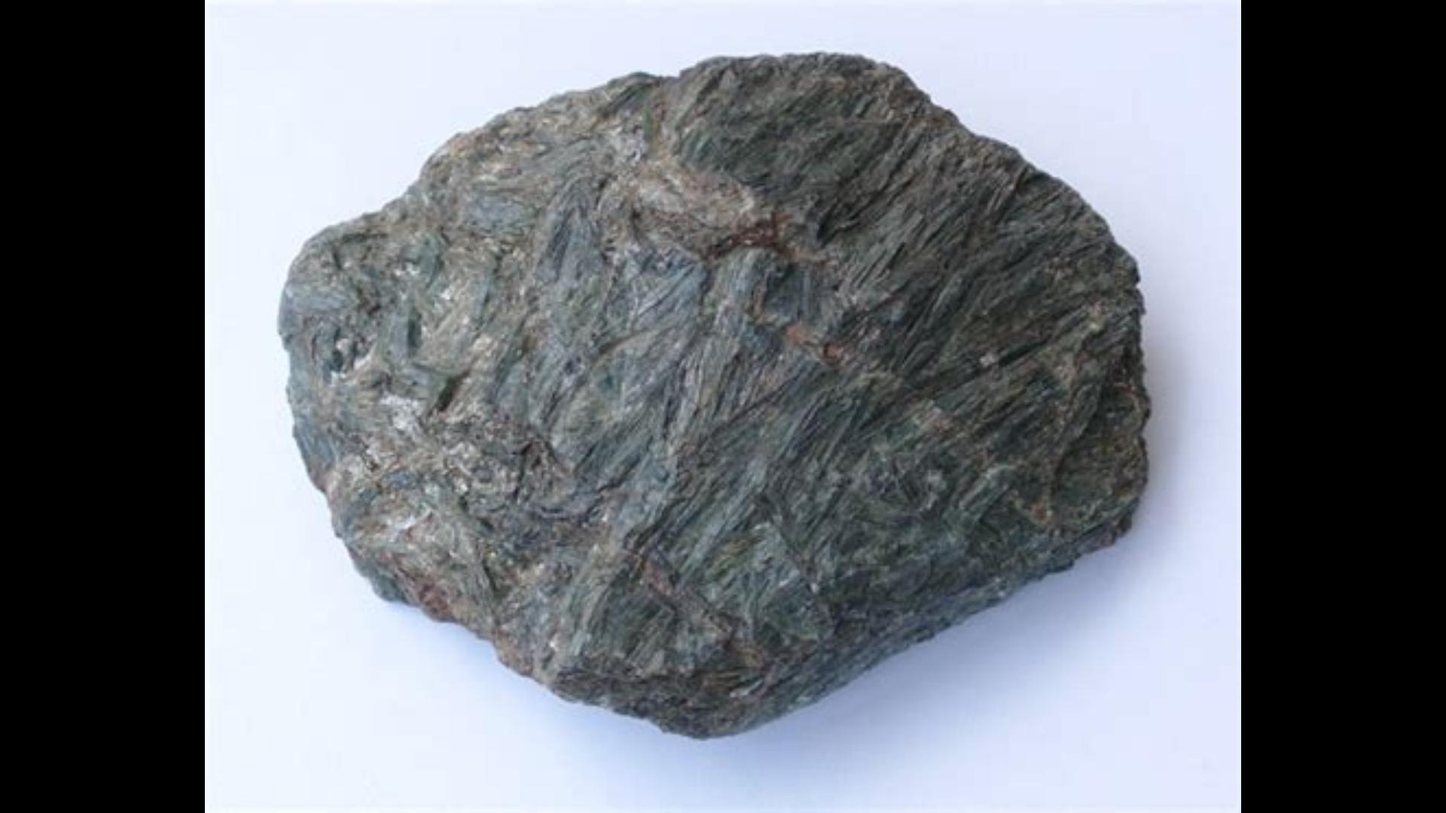rock: (279, 57, 1147, 734)
